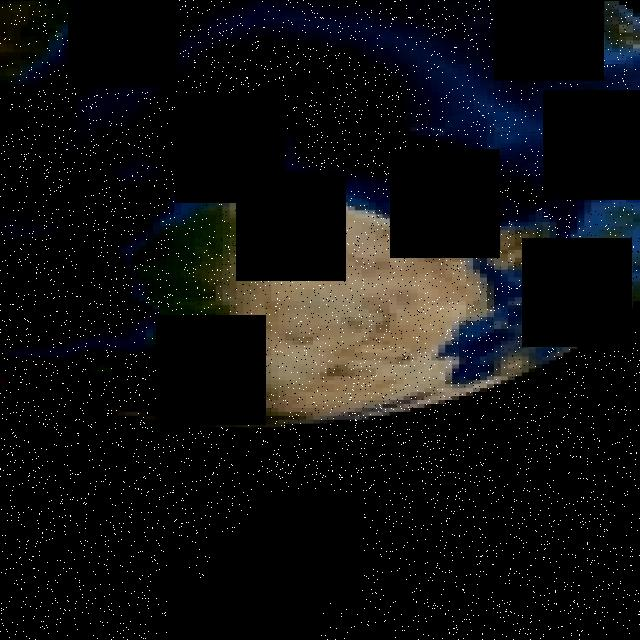Earth: (0, 1, 640, 430)
